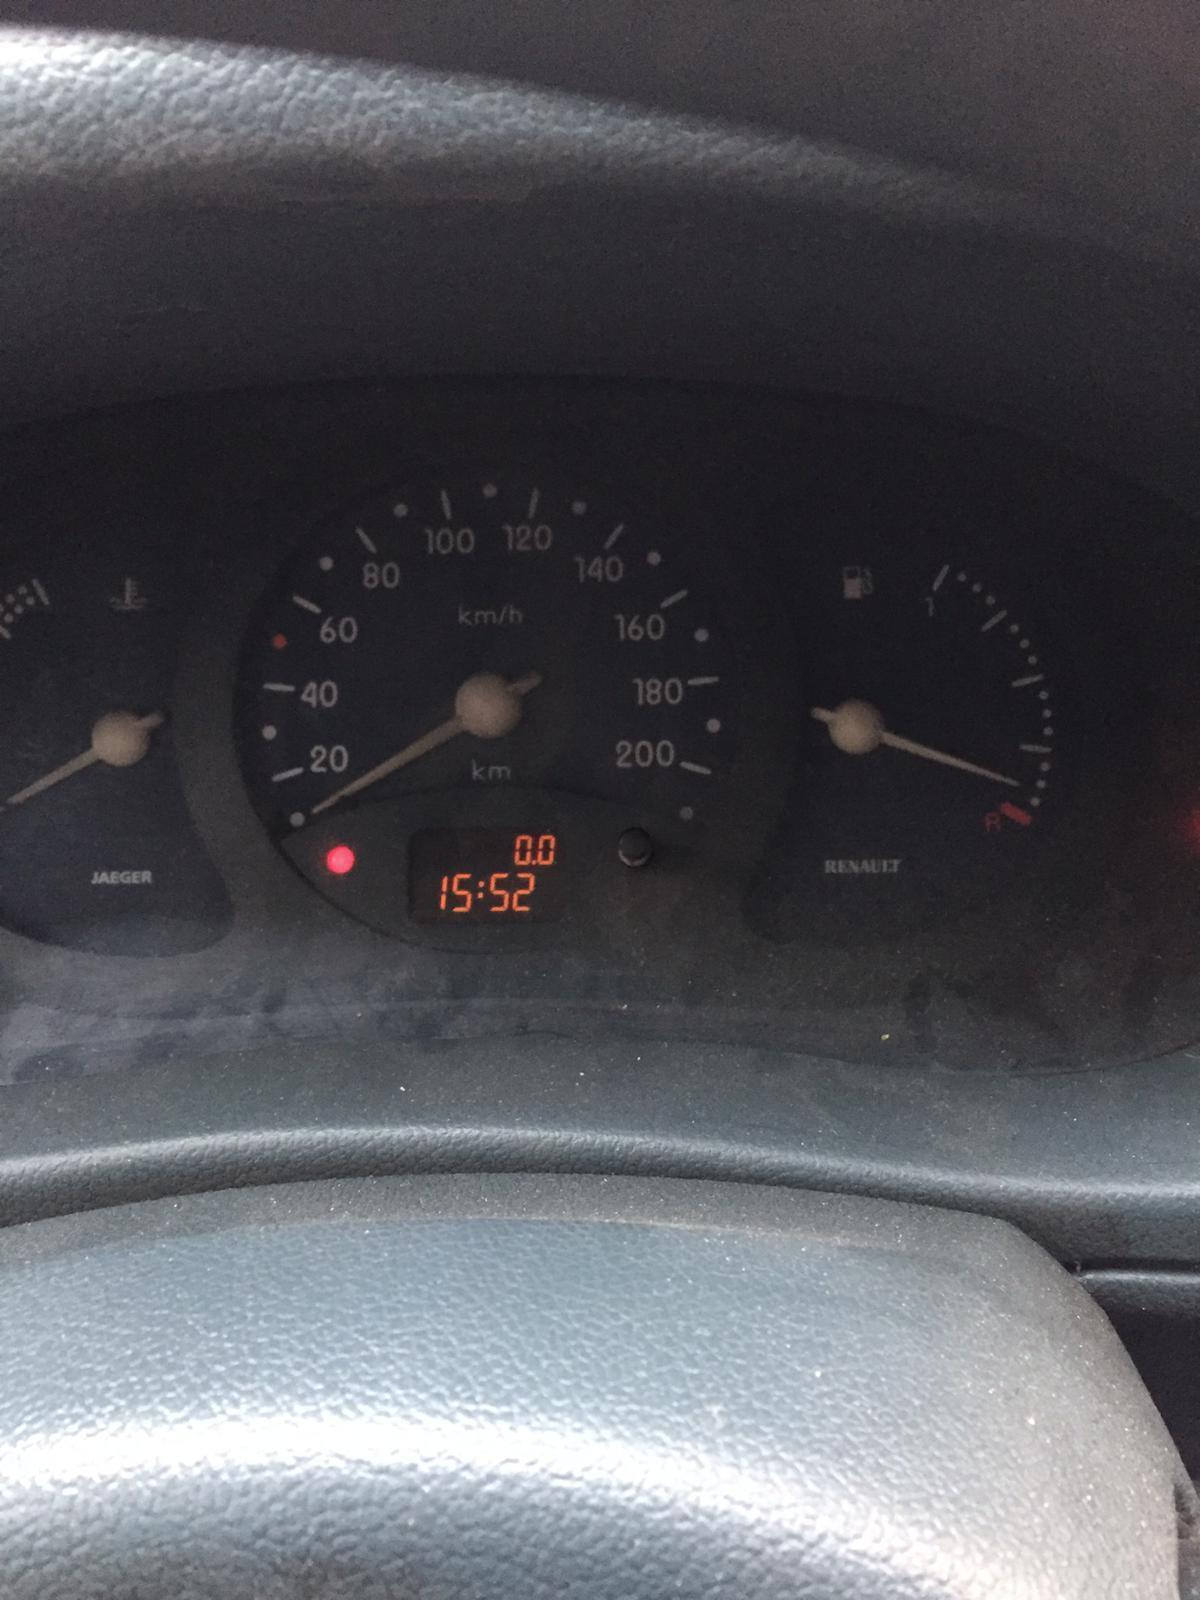,: (531, 859, 537, 866)
0: (536, 834, 555, 866), (513, 834, 532, 866)
1: (439, 874, 447, 911)
2: (511, 872, 534, 911)
5: (488, 872, 509, 912), (451, 873, 471, 912)
X: (476, 879, 485, 900)
odometer: (405, 825, 568, 926)
